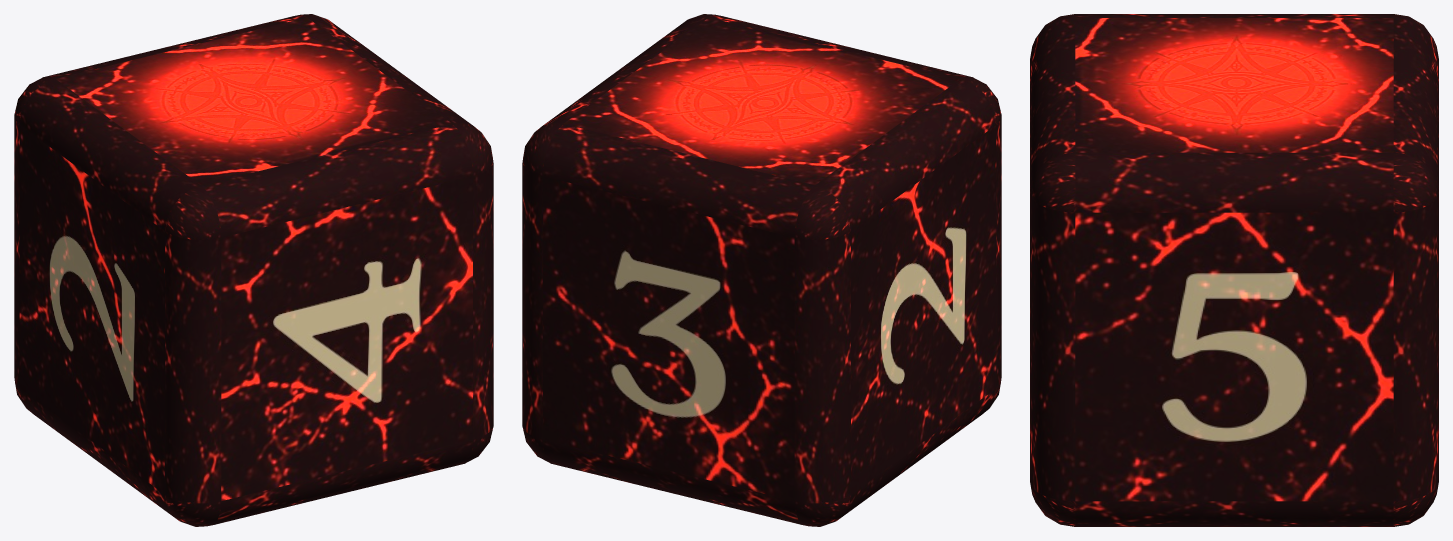
File: d6_corr.glb
3 renders of one model, left to right at view 1: azimuth 30°, elevation 25°; view 2: azimuth 150°, elevation 25°; view 3: azimuth 270°, elevation 25°, orthographic. The views are drawn at different scales.
Parts seen in each view (by area): view 1: d6; view 2: d6; view 3: d6.
Boxes of the visible parts, left/top/right/bottom form: d6: left=14, top=14, right=493, bottom=526; d6: left=522, top=14, right=1001, bottom=526; d6: left=1030, top=14, right=1438, bottom=526.
Bounding box in the file's own units: 104 × 104 × 104.
1 material, 1 textured.
